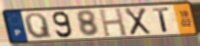8: (75, 9, 101, 38)
9: (52, 11, 74, 39)
H: (98, 7, 129, 37)
Q: (23, 12, 54, 40)
T: (152, 6, 172, 33)
X: (123, 7, 153, 37)
